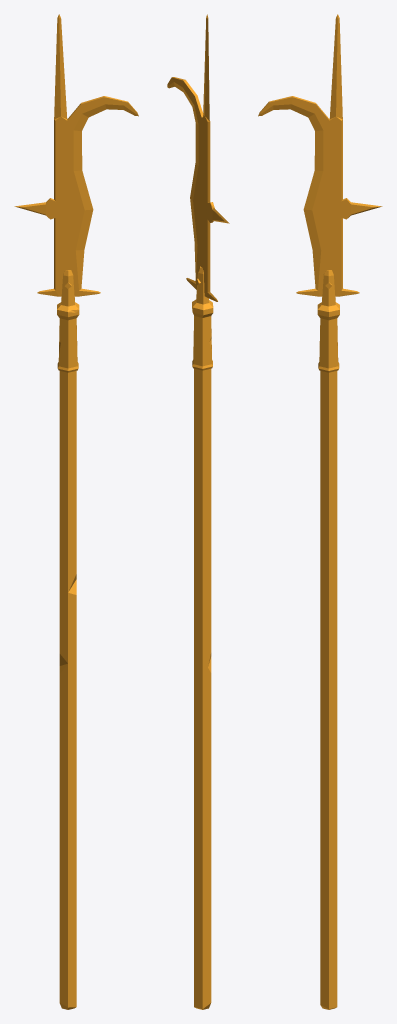
Rendered from SM_Polearm_Bill.fbx.
The picture shows the model from 3 angles, left to right: view 1: azimuth 90°, elevation 25°; view 2: azimuth 210°, elevation 25°; view 3: azimuth 270°, elevation 25°; orthographic projection.
Visible parts, largest first — view 1: polearm-bill; view 2: polearm-bill; view 3: polearm-bill.
Part boxes in pixels (x1,y1,x2,y2): polearm-bill: [14, 14, 138, 1009]; polearm-bill: [167, 14, 229, 1009]; polearm-bill: [258, 14, 382, 1009].
Bounding box in the file's own units: 0.0474 × 2.16 × 0.2468.
